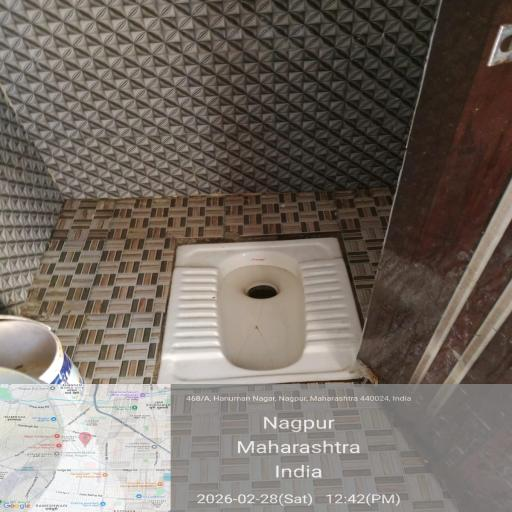clean_floor: (0, 194, 379, 404), (0, 2, 406, 190), (416, 26, 507, 226)
clean_indian: (172, 241, 353, 374)
partial_dirty_floor: (378, 242, 510, 380)
